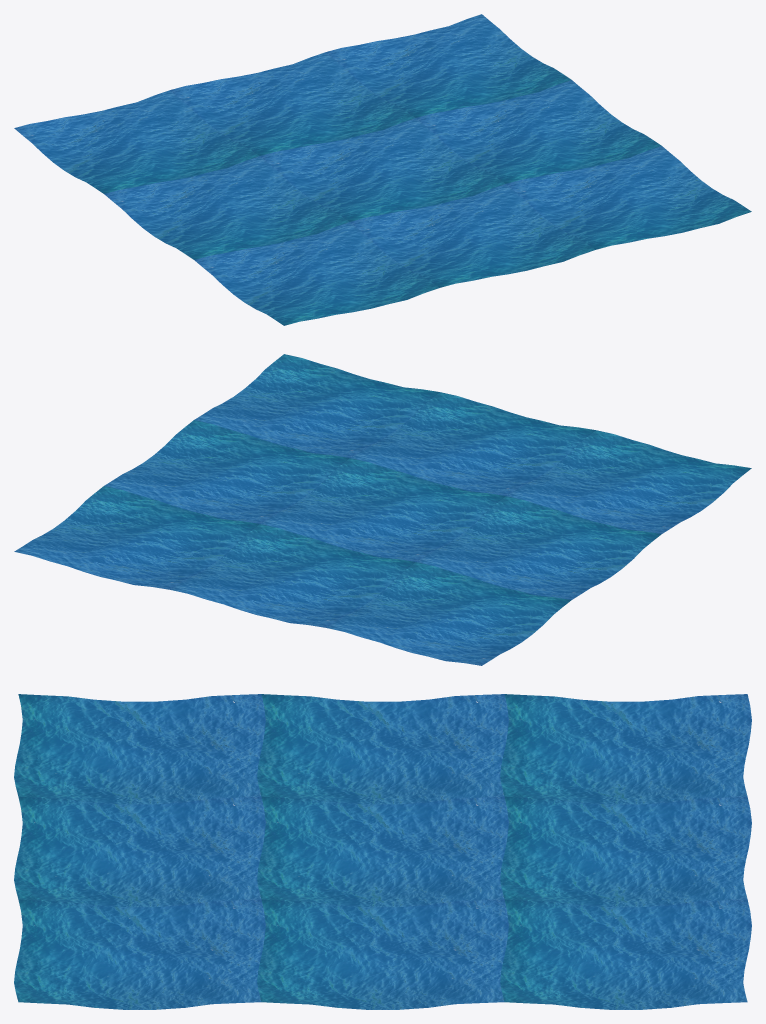
Rendered from ocean_000233.obj.
3 views of the same model, one above another, from view 1: azimuth 30°, elevation 25°; view 2: azimuth 150°, elevation 25°; view 3: azimuth 270°, elevation 25° (orthographic). The views are drawn at different scales.
Parts seen in each view (by area): view 1: Ocean_Plan.001; view 2: Ocean_Plan.001; view 3: Ocean_Plan.001.
Part boxes in pixels (x1=…): Ocean_Plan.001: x1=14, y1=14, x2=751, y2=325; Ocean_Plan.001: x1=14, y1=354, x2=751, y2=665; Ocean_Plan.001: x1=14, y1=694, x2=751, y2=1009.
Bounding box in the file's own units: 109085 × 2087 × 110279.
1 material, 1 textured.
